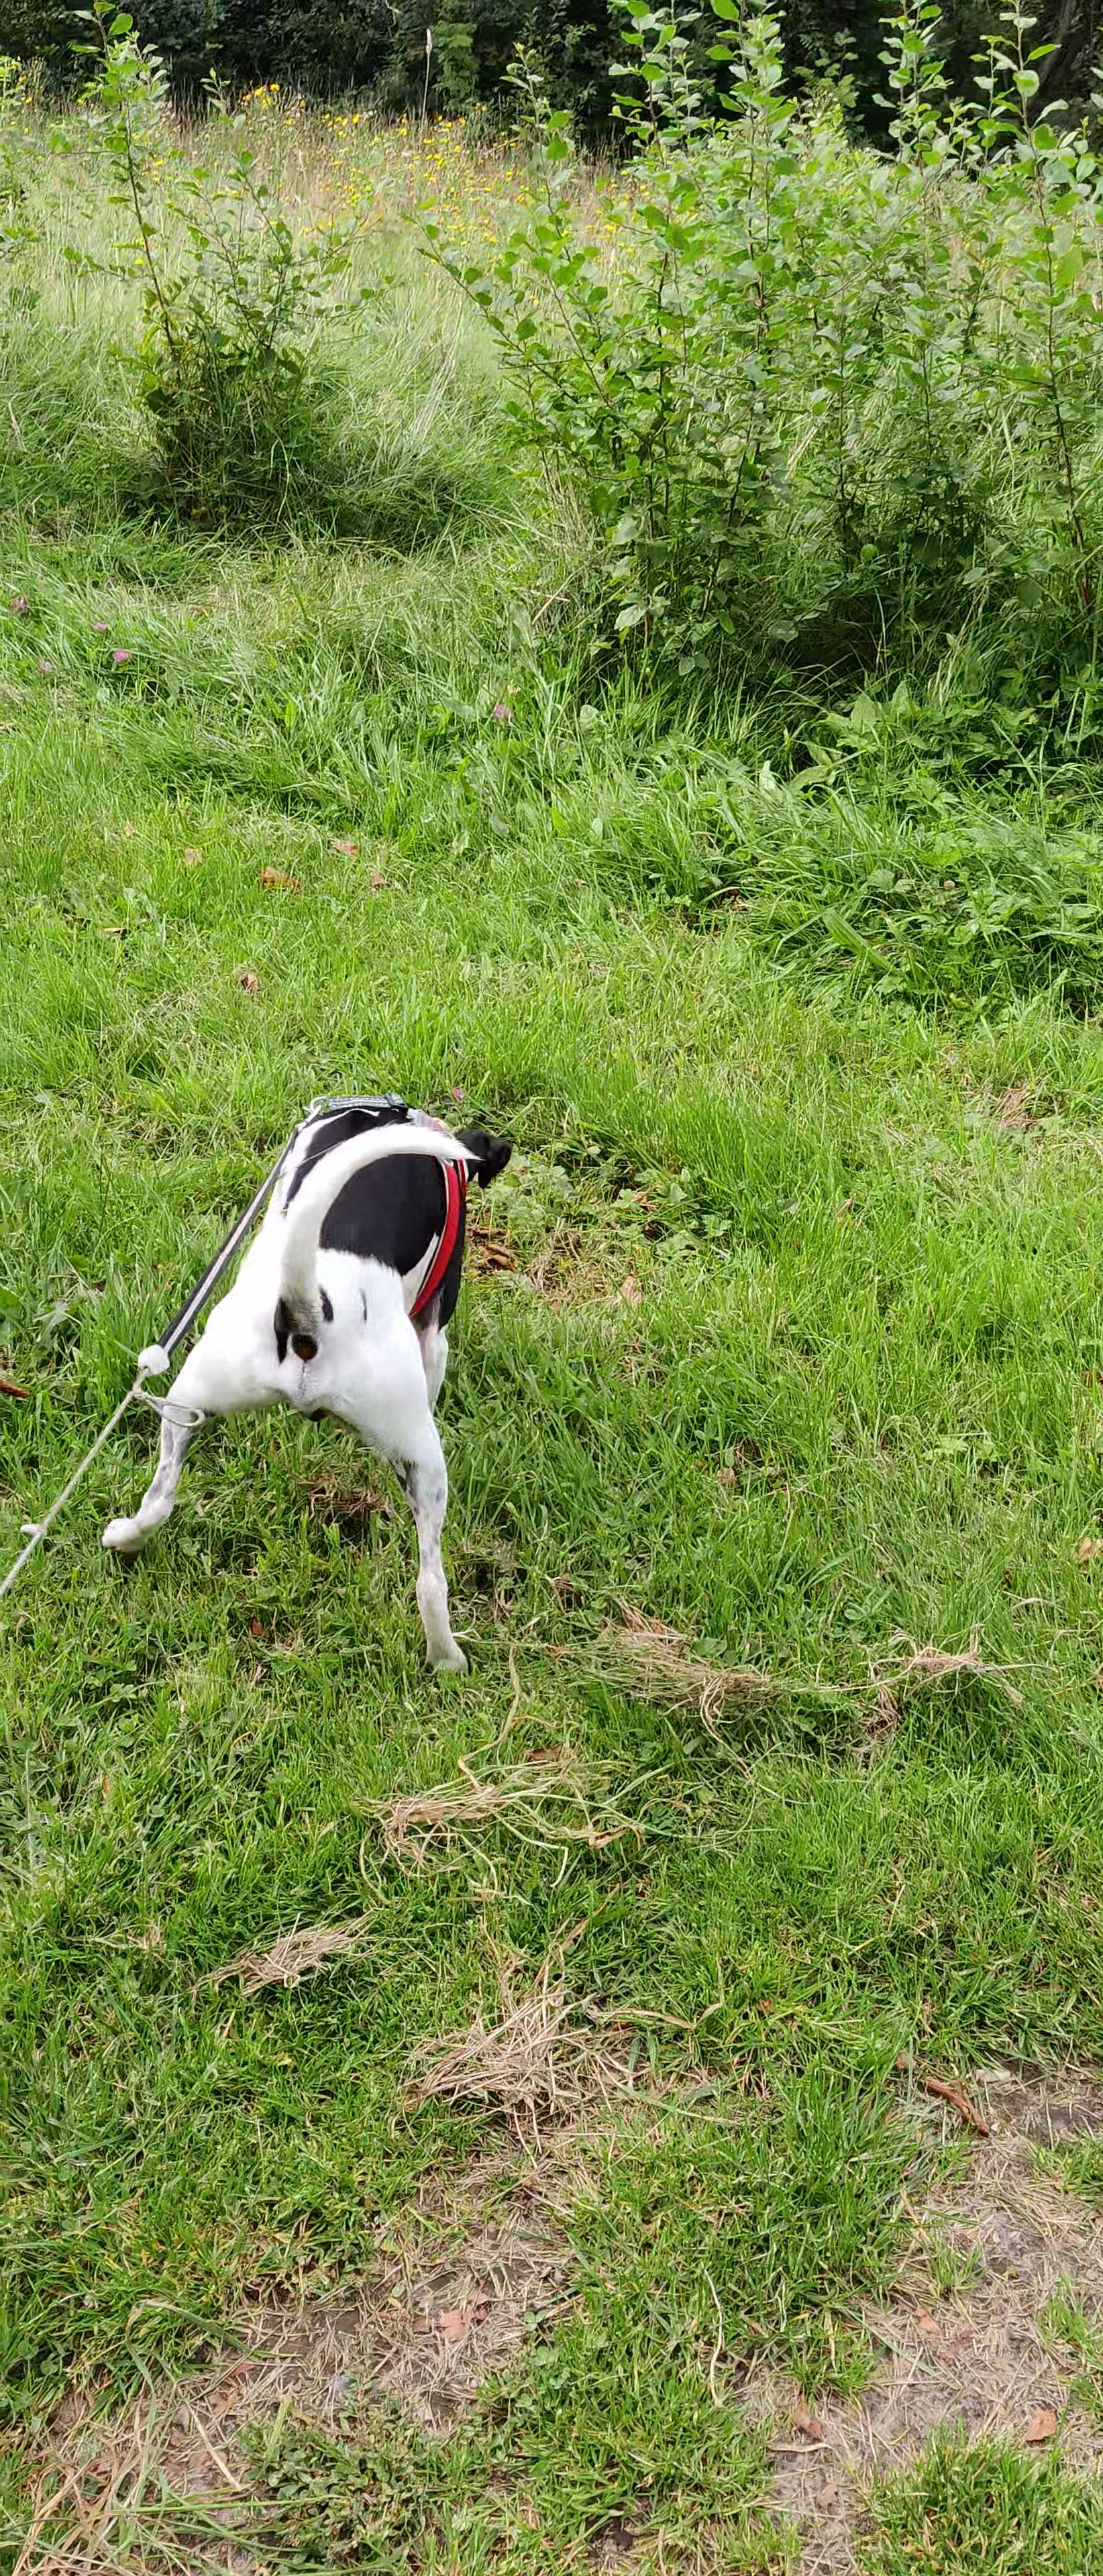Dog: (104, 1083, 518, 1677)
